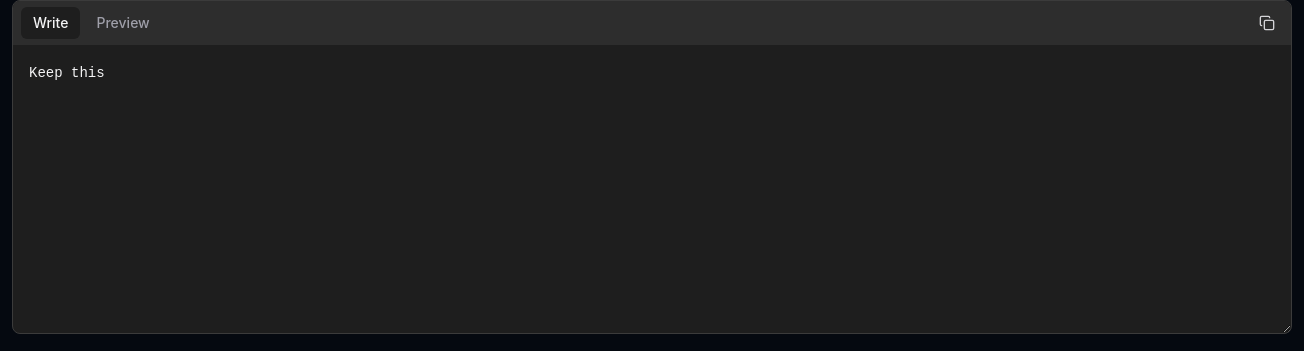
Scenario: reports clipboard failure without changing the Markdown
Click the button named "Copy Markdown".
click(1267, 23)  # box [1251, 7, 1283, 39]
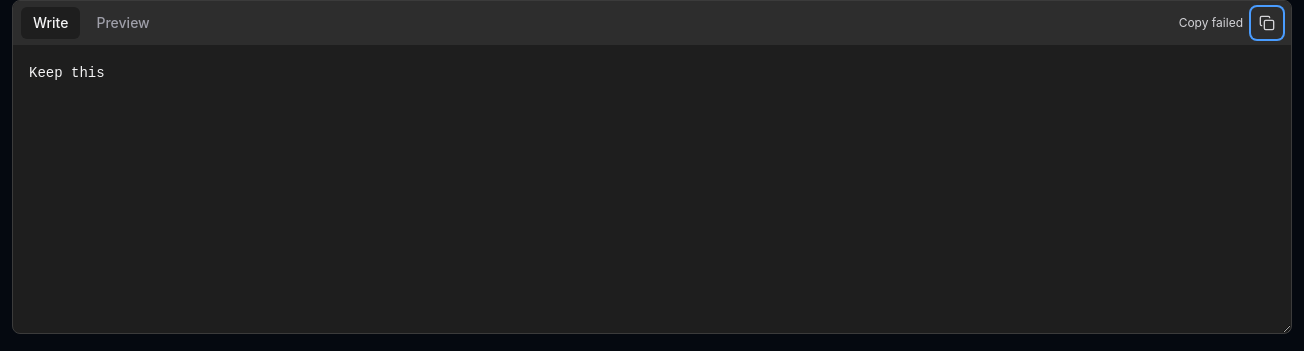
Expected: the message reads "Copy failed", [1179, 15, 1243, 30]
